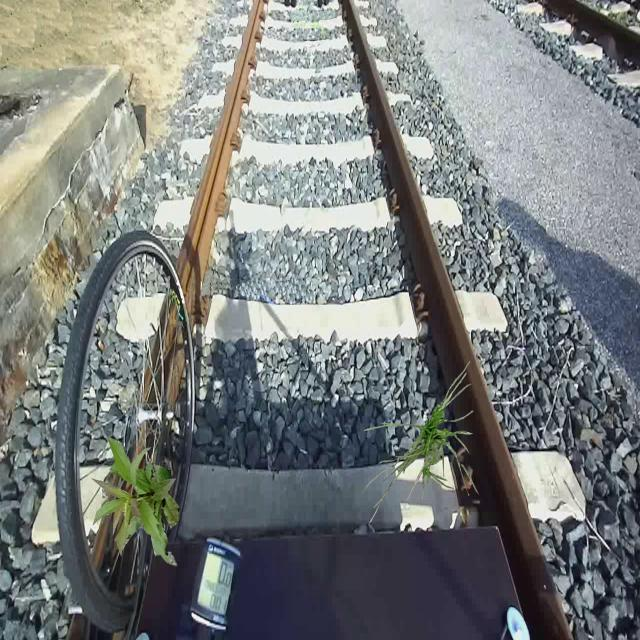Plant: (362, 361, 480, 524), (91, 437, 180, 567)
